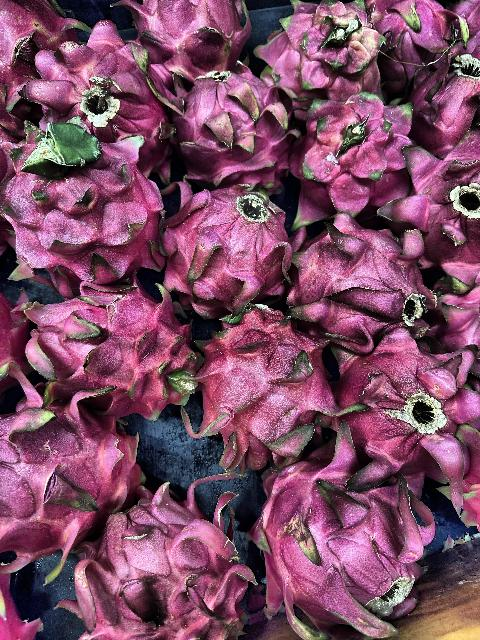buah-naga-matang: (232, 434, 430, 628), (64, 488, 252, 640), (16, 272, 198, 416), (326, 324, 480, 486), (0, 124, 162, 276), (184, 304, 348, 452), (0, 385, 140, 543), (29, 24, 177, 166), (276, 214, 426, 336), (160, 177, 290, 311), (290, 88, 414, 216), (170, 65, 296, 185), (394, 137, 480, 276), (262, 0, 372, 100), (117, 0, 259, 76), (0, 0, 84, 128), (410, 42, 480, 156), (366, 0, 450, 80)
